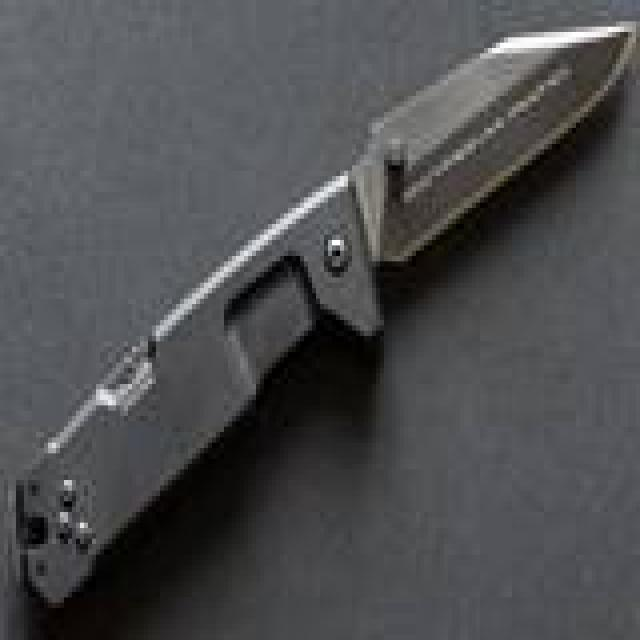Knife: (8, 16, 636, 616)
